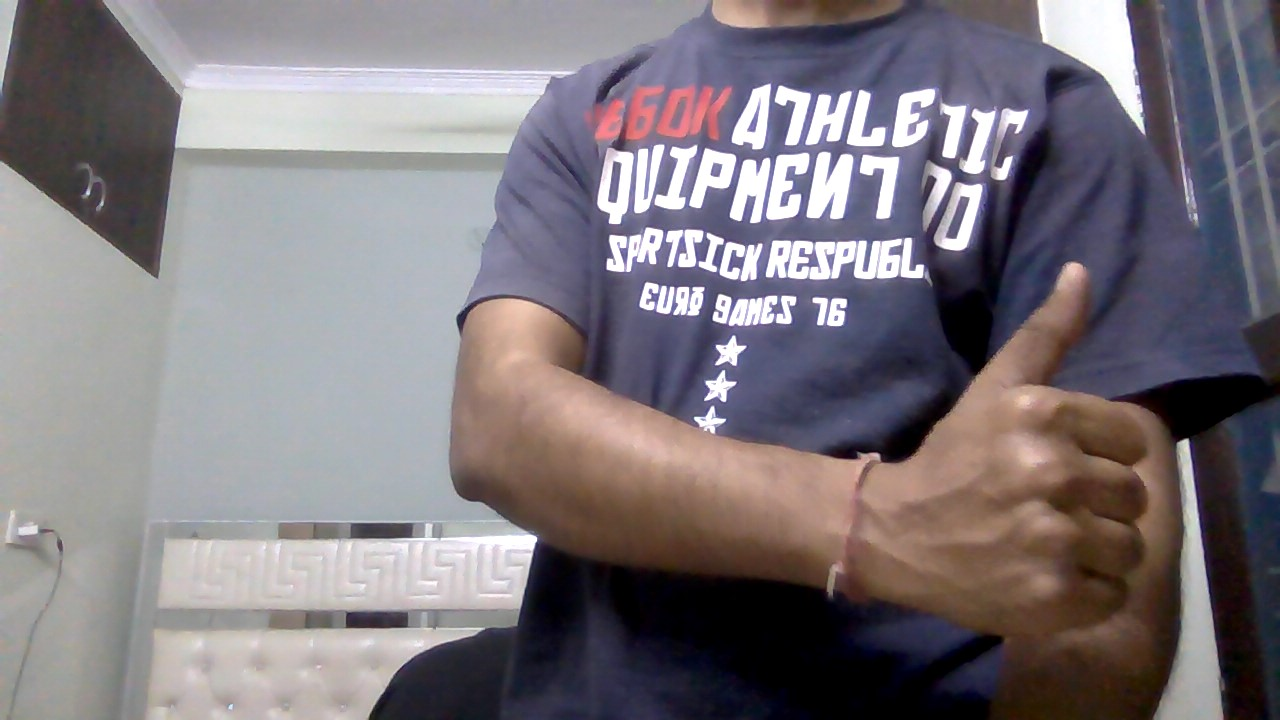Save: (866, 248, 1163, 677)
